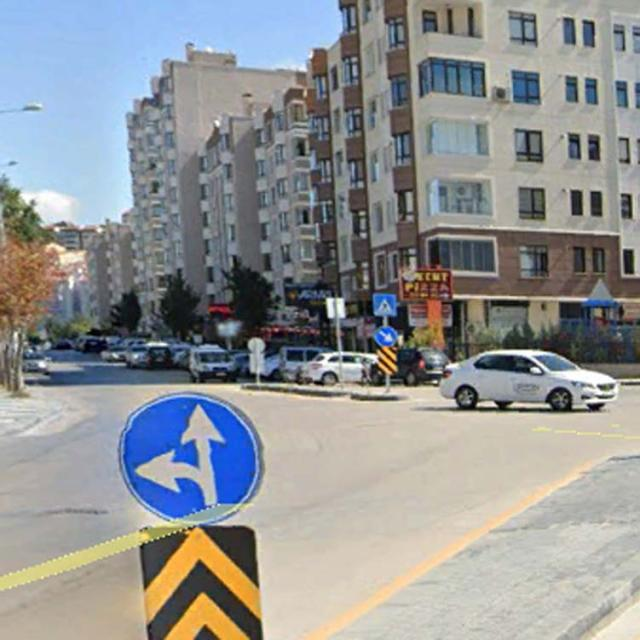ilerisol: (117, 392, 262, 522)
